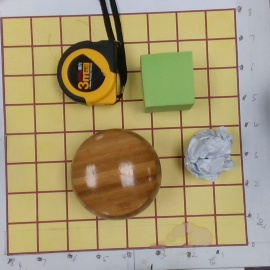chess: (72, 130, 161, 219)
